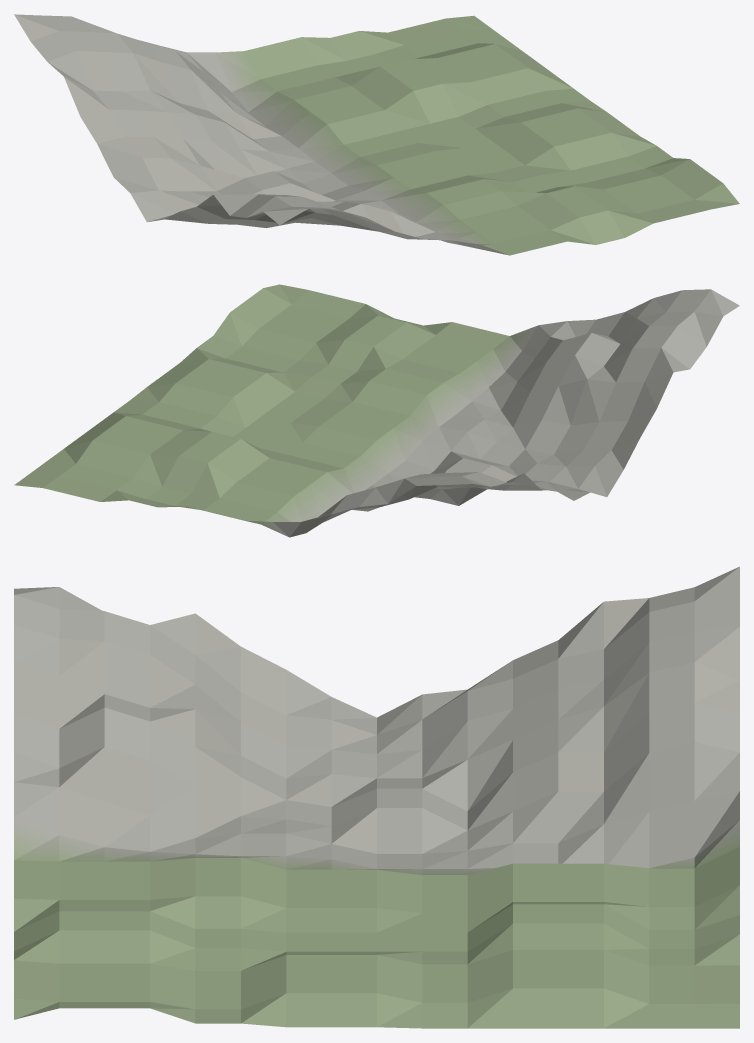
The picture shows the model from 3 angles, top to bottom: view 1: azimuth 30°, elevation 25°; view 2: azimuth 150°, elevation 25°; view 3: azimuth 270°, elevation 25°; orthographic projection. The views are drawn at different scales.
Bounding box in the file's own units: 32 × 8.38 × 32.
